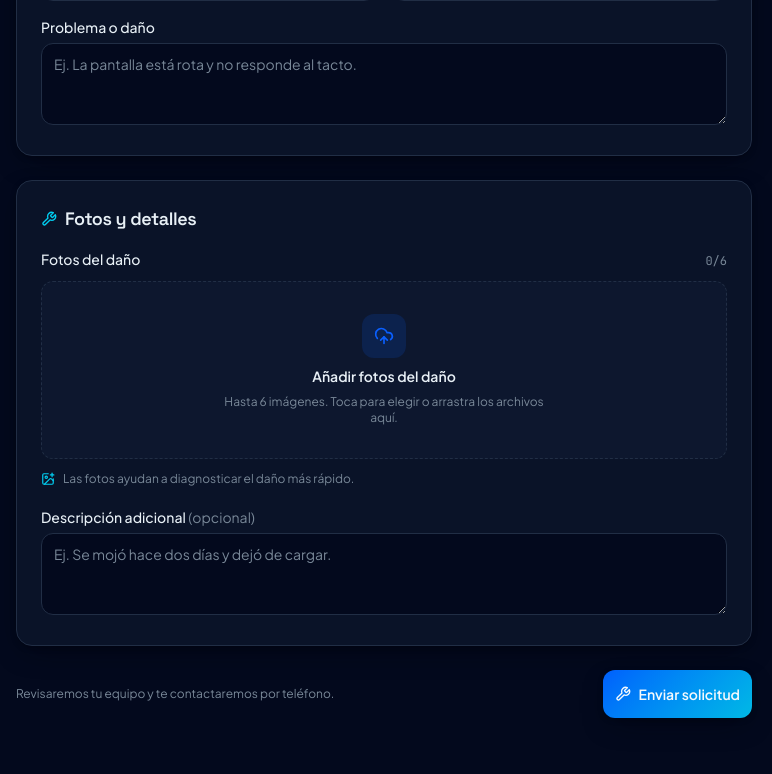
Test: RequestRepairPage › shows validation errors and does not submit an empty form
The image size is (772, 774).
(page scrolled)
Click the button with test id "request.submit_button" at {"x": 677, "y": 694}, box [602,670,752,718]
(page scrolled)
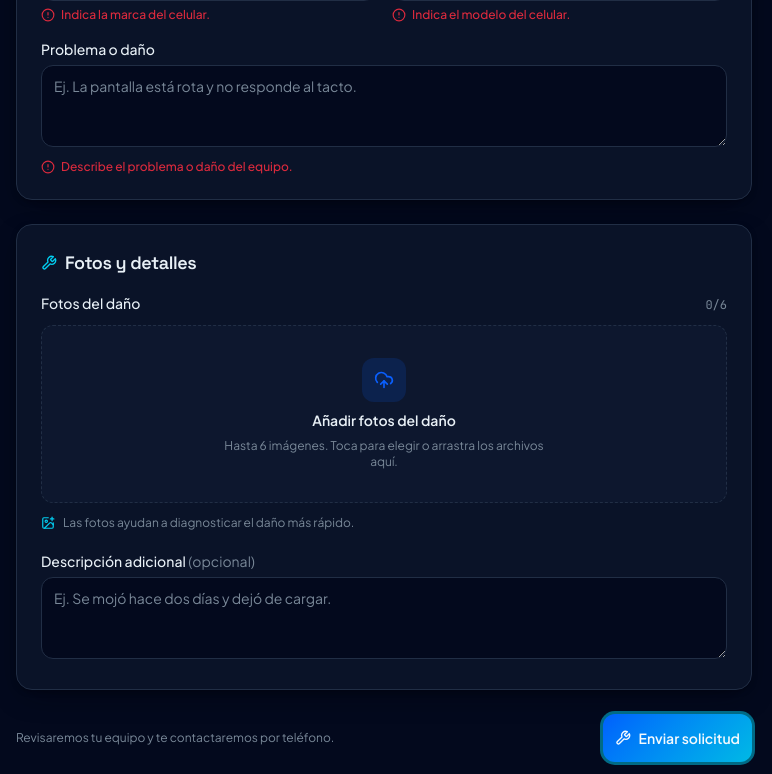
Result: the element with test id "request.brand.error" is shown at [41,7,210,22]
Result: the element with test id "request.model.error" is shown at [392,7,570,22]
Result: the element with test id "request.reportedIssue.error" is shown at [41,159,293,174]
